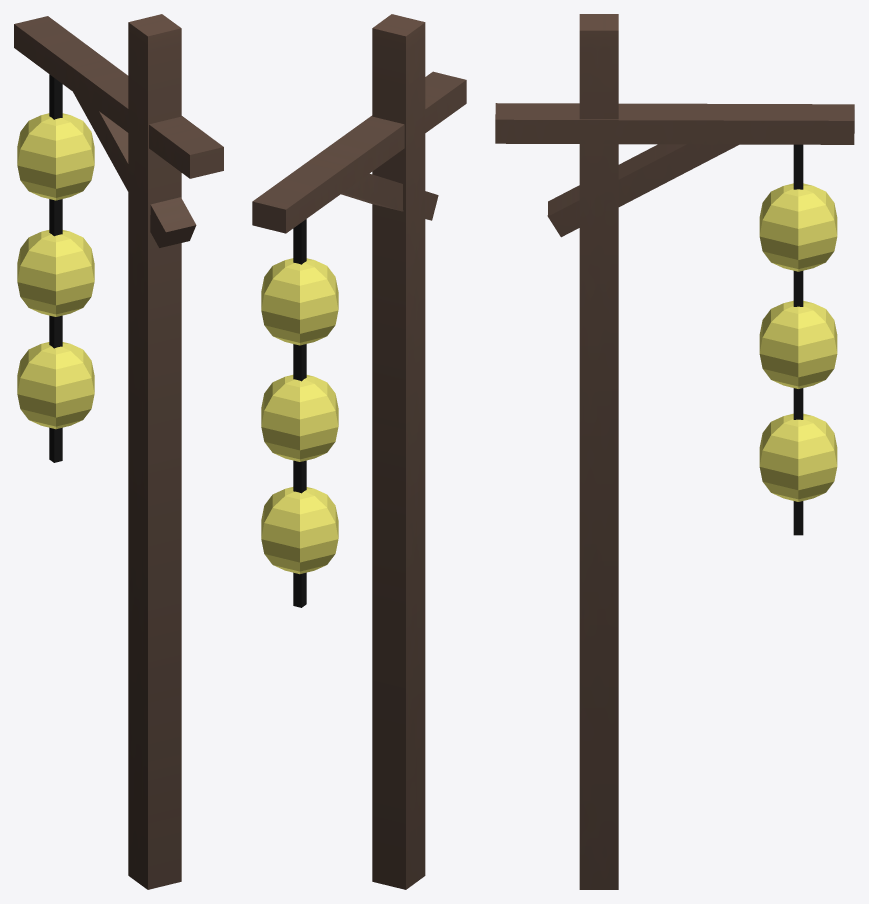
File: vsd.fbx
The picture shows the model from 3 angles, left to right: view 1: azimuth 30°, elevation 25°; view 2: azimuth 150°, elevation 25°; view 3: azimuth 270°, elevation 25°; orthographic projection.
Parts seen in each view (by area): view 1: lattern; view 2: lattern; view 3: lattern.
Boxes of the visible parts, x1,y1,x2,y2 form: lattern: (14, 14, 223, 889); lattern: (252, 14, 466, 889); lattern: (495, 14, 854, 889).
Size of the model in its own units: 33.14 by 350 by 133.
